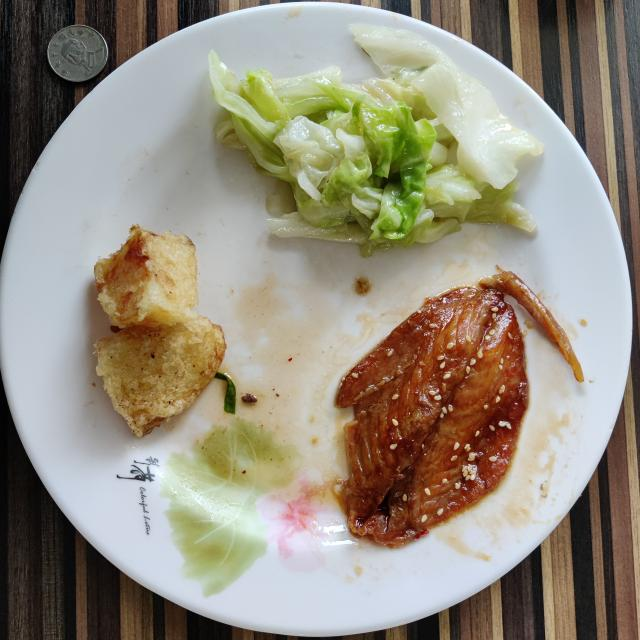Kabayaki sea bream fillet: (335, 271, 582, 546)
cabbage: (209, 25, 544, 255)
coin: (48, 25, 108, 82)
fried potato: (94, 225, 226, 436)
